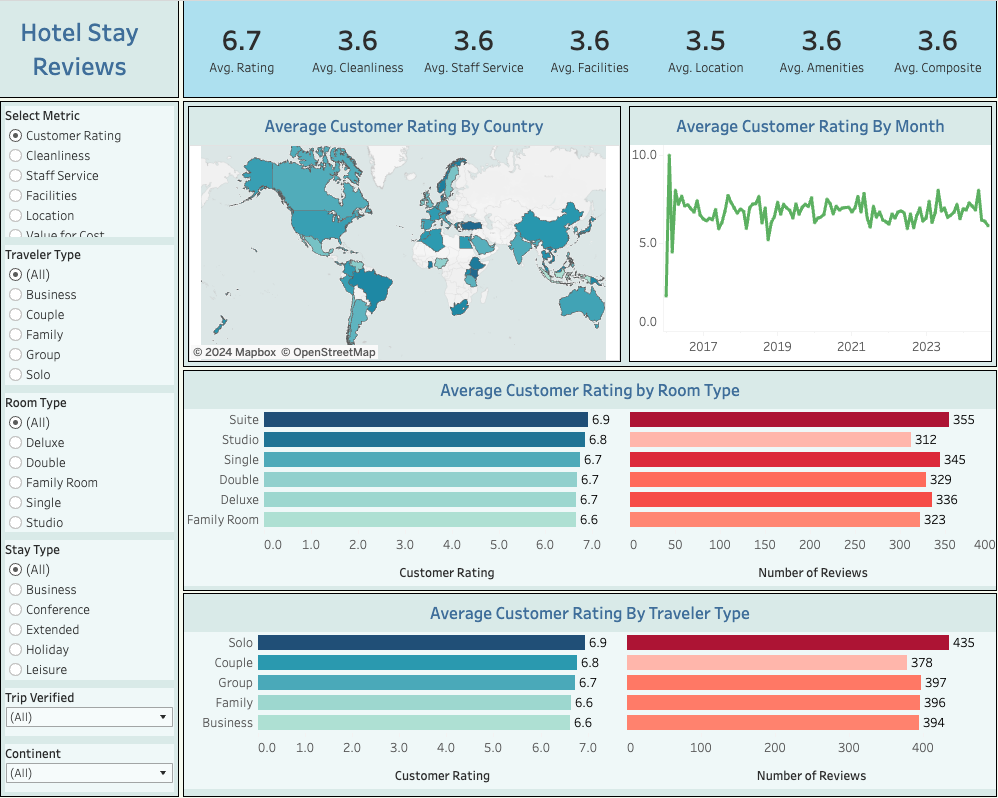

Layout of this report page (visuals, bound fields, positions):
{"tool":"tableau","page":{"name":"Dashboard","canvas":[1000,800],"ordinal":0},"visuals":[{"type":"parameter","param":"[Parameters].[Parameter 1]","box":[1,101,177,139]},{"type":"worksheet","title":"Map","mark":"Automatic","box":[184,101,440.5,264]},{"type":"worksheet","title":"Month","mark":"Automatic","rows":["Calculation_1055542356095036"],"cols":["review_date"],"box":[624.5,101,371.5,264]},{"type":"filter","title":"Map","param":"[federated.01dokep0fa903m10k4bof10lnehf].[none:traveller_type:nk]","box":[1,240,177,147.7]},{"type":"worksheet","title":"Room","mark":"Automatic","rows":["room_type"],"cols":["Calculation_1055542356095036","hotel_reviews.csv_0B8BE8855F71481D8D28B35BA2E13A7D"],"box":[183,369,814,221]},{"type":"filter","title":"Map","param":"[federated.01dokep0fa903m10k4bof10lnehf].[none:room_type:nk]","box":[1,387.7,177,147.7]},{"type":"filter","title":"Map","param":"[federated.01dokep0fa903m10k4bof10lnehf].[none:stay_type:nk]","box":[1,535.3,177,147.7]},{"type":"worksheet","title":"Traveler","mark":"Automatic","rows":["traveller_type"],"cols":["Calculation_1055542356095036","hotel_reviews.csv_0B8BE8855F71481D8D28B35BA2E13A7D"],"box":[183,592,814,204]},{"type":"filter","title":"Map","param":"[federated.01dokep0fa903m10k4bof10lnehf].[none:trip_verified:nk]","box":[1,683,177,56]},{"type":"filter","title":"Map","param":"[federated.01dokep0fa903m10k4bof10lnehf].[none:Continent:nk]","box":[1,739,177,56]}]}

Visuals, with their boxes in screenshot pixels (x1, y1, x2, y2), scaled from the page's 1000x800 canvas onto the 998x798 screenshot:
parameter: <region>1, 101, 178, 239</region>
"Map" worksheet: <region>184, 101, 623, 364</region>
"Month" worksheet: <region>623, 101, 994, 364</region>
"Map" filter: <region>1, 239, 178, 387</region>
"Room" worksheet: <region>183, 368, 995, 589</region>
"Map" filter: <region>1, 387, 178, 534</region>
"Map" filter: <region>1, 534, 178, 681</region>
"Traveler" worksheet: <region>183, 591, 995, 794</region>
"Map" filter: <region>1, 681, 178, 737</region>
"Map" filter: <region>1, 737, 178, 793</region>
